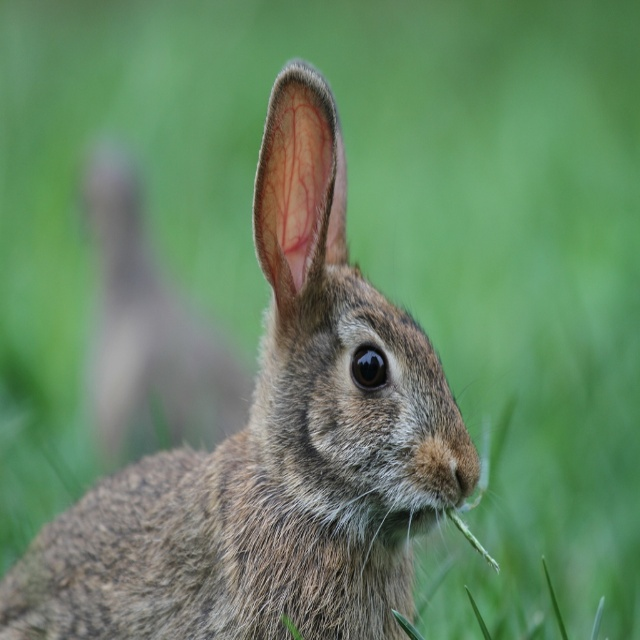Rabbit: (0, 57, 517, 640)
